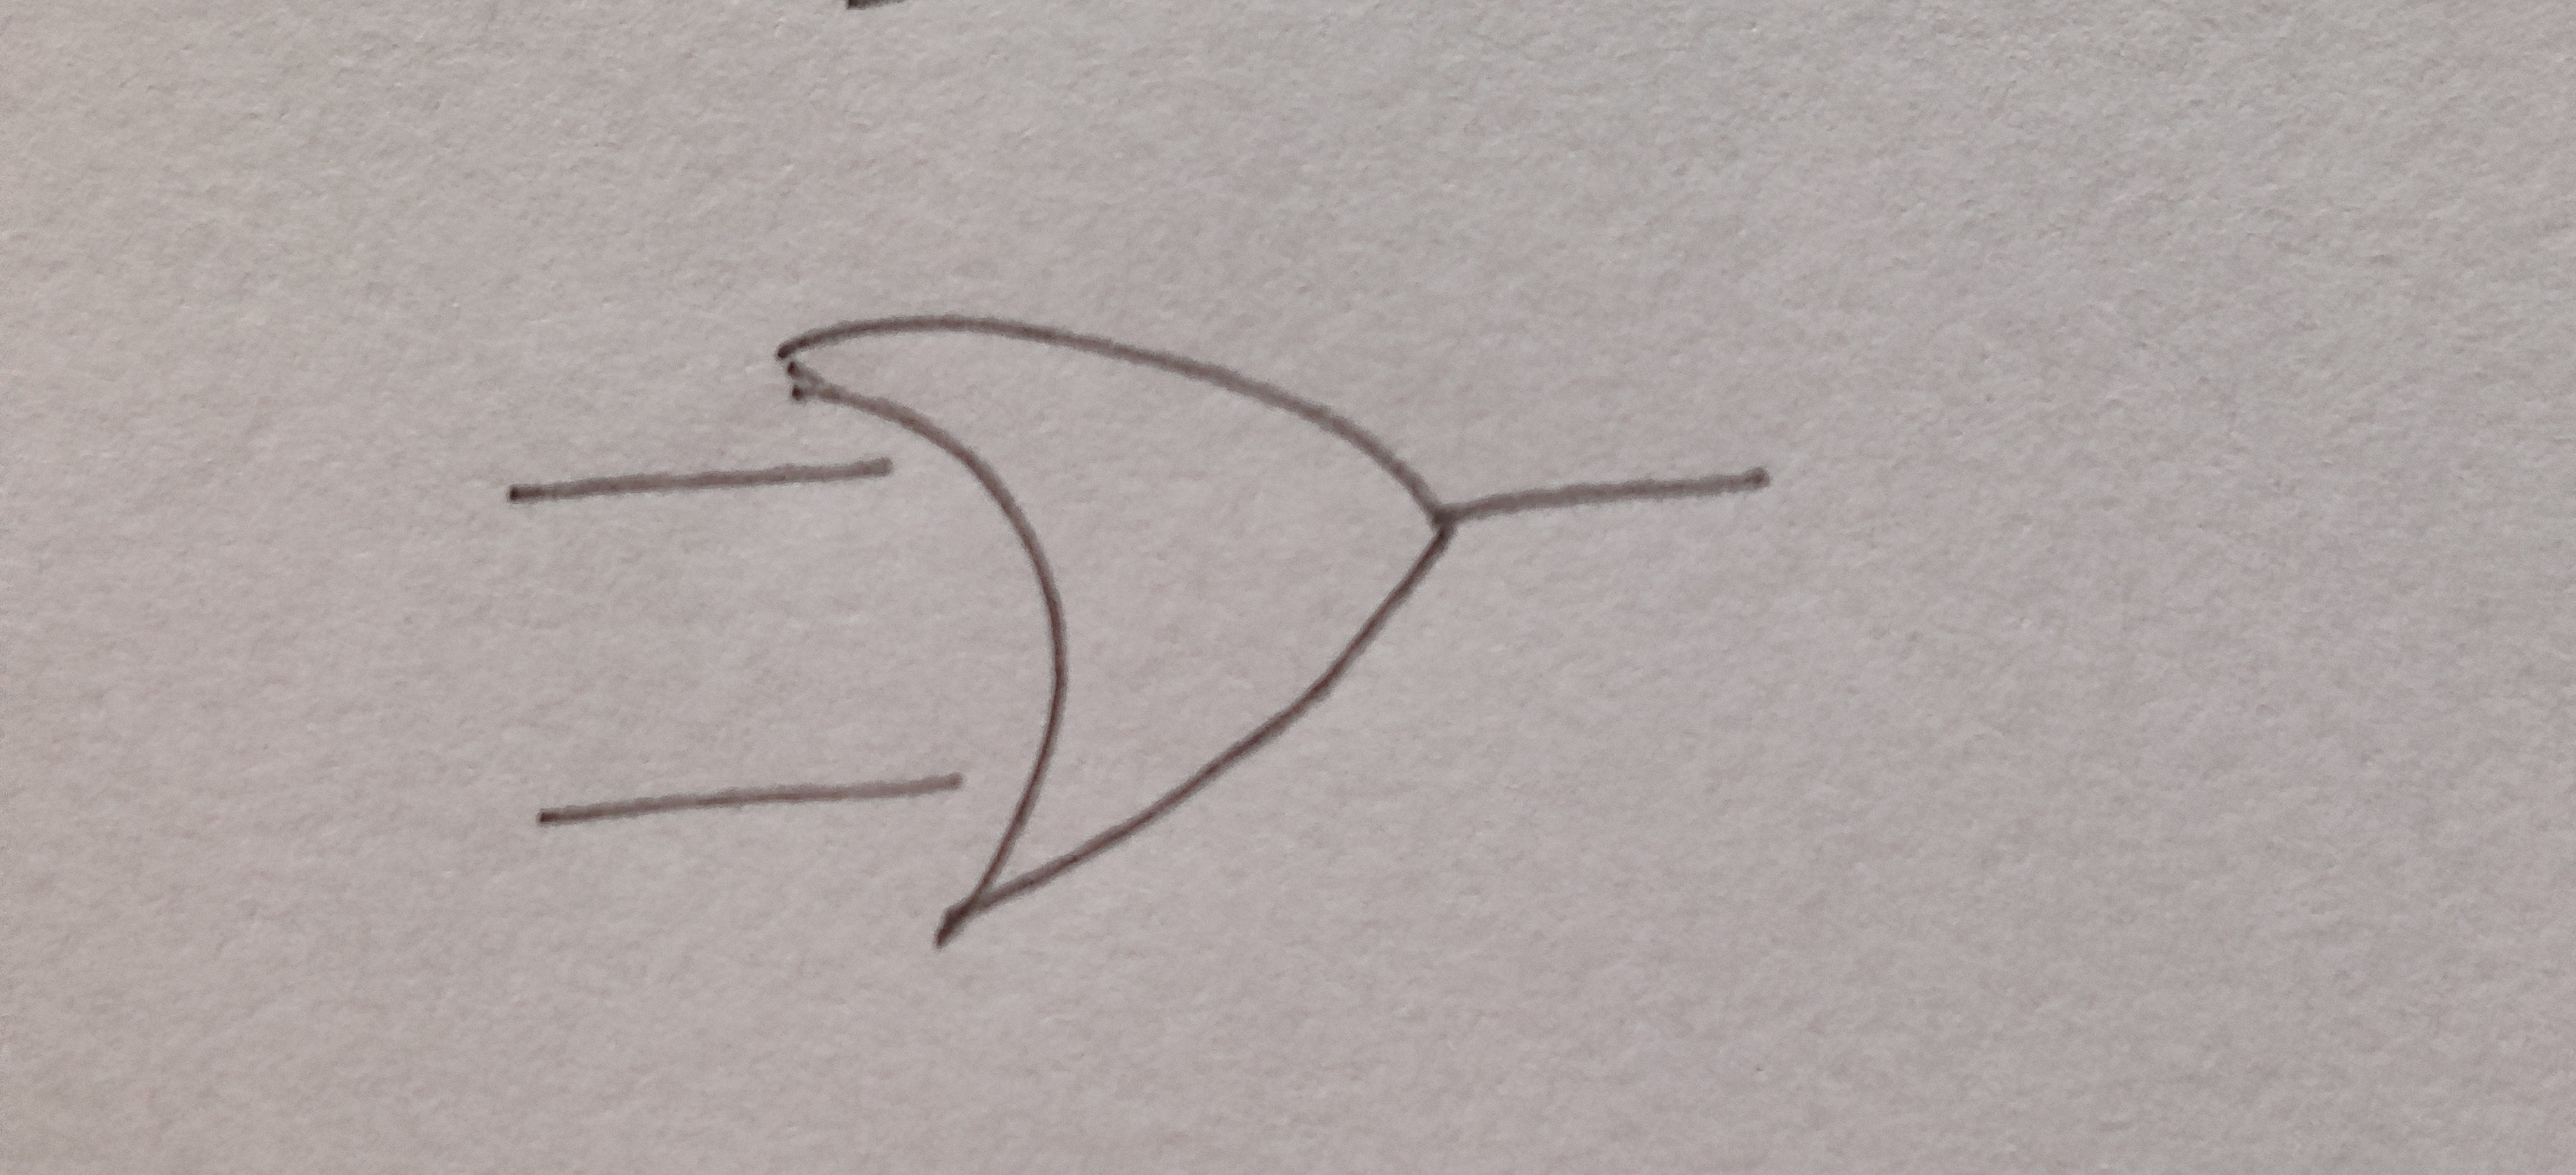or: (780, 319, 1447, 937)
